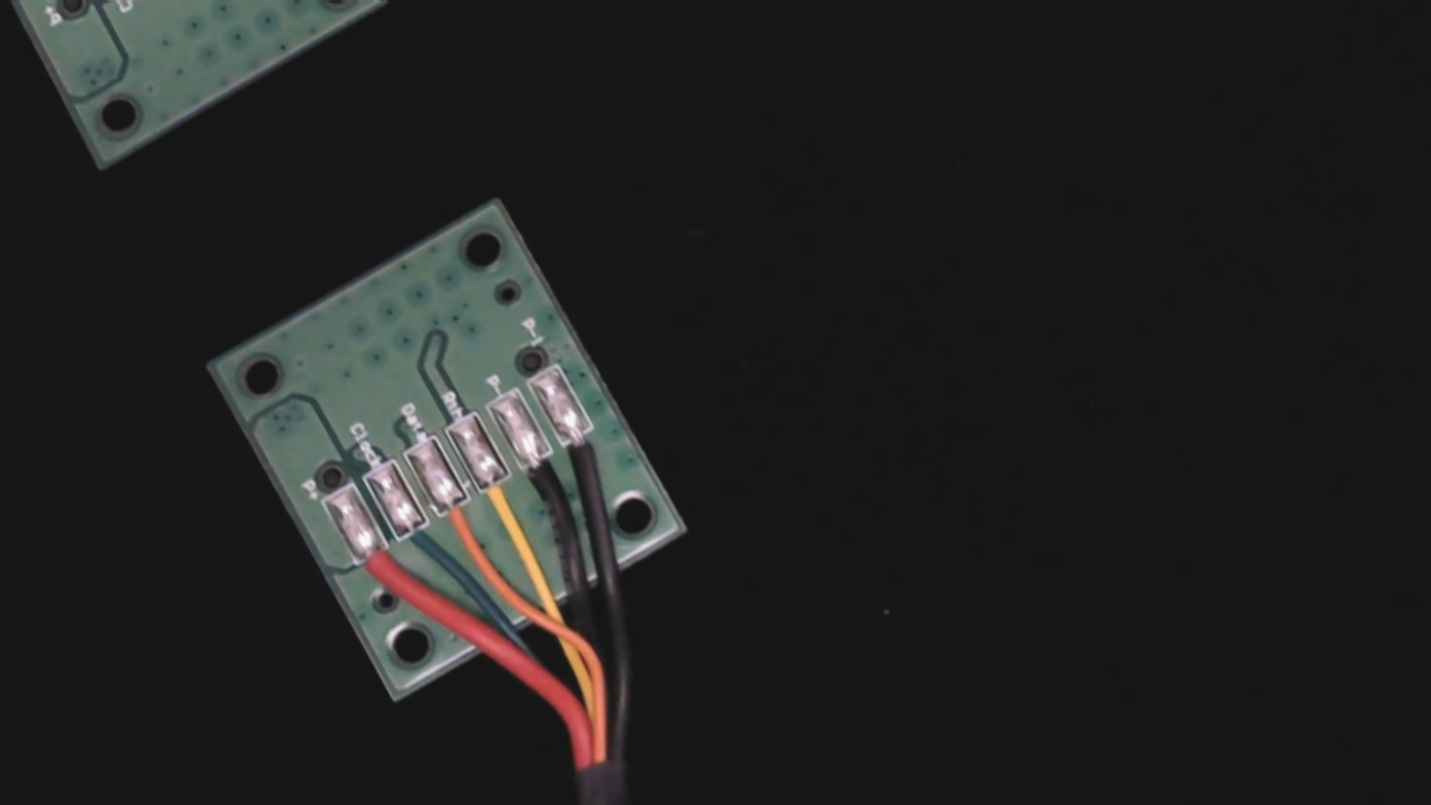Black: (504, 436, 587, 528)
Black1: (546, 411, 626, 499)
Green: (385, 505, 460, 585)
Orange: (423, 481, 499, 564)
Red: (341, 527, 421, 613)
Yellow: (463, 458, 543, 547)
